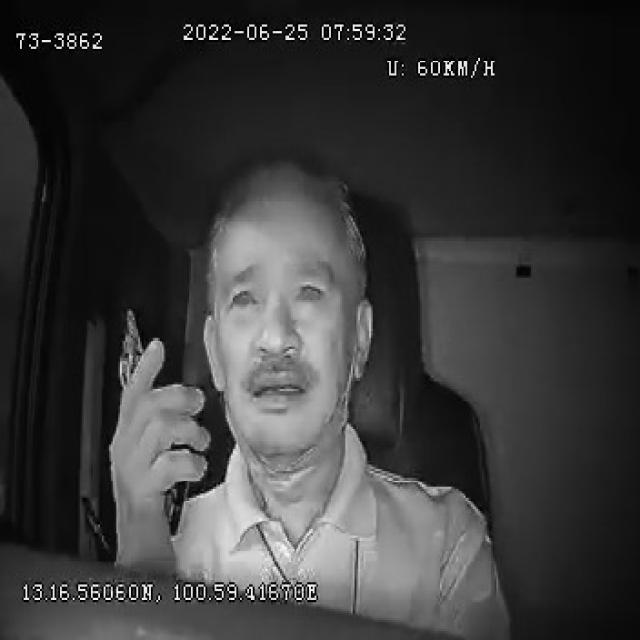phone: (116, 306, 187, 539)
